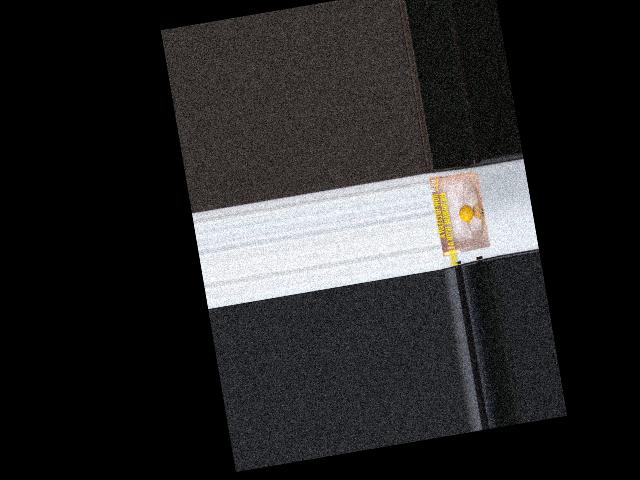lemon: (456, 202, 479, 231)
